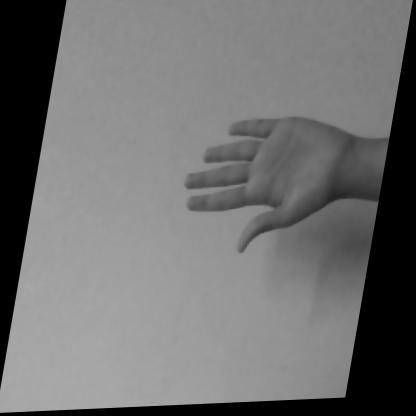palm: (161, 109, 397, 263)
